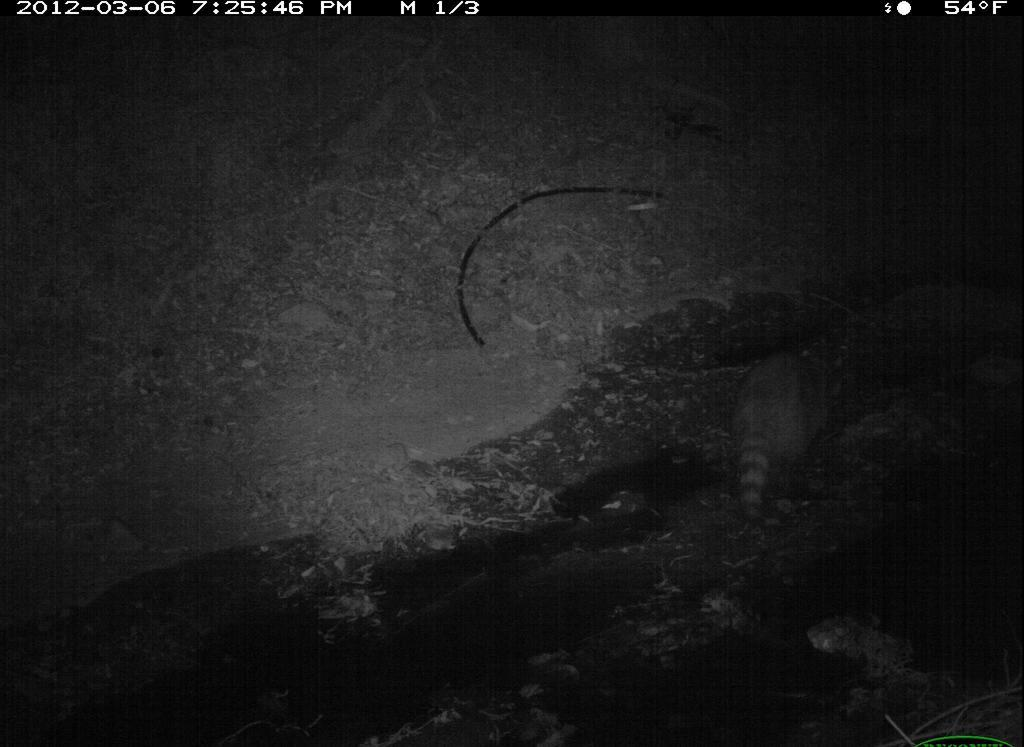raccoon: (720, 297, 871, 528)
